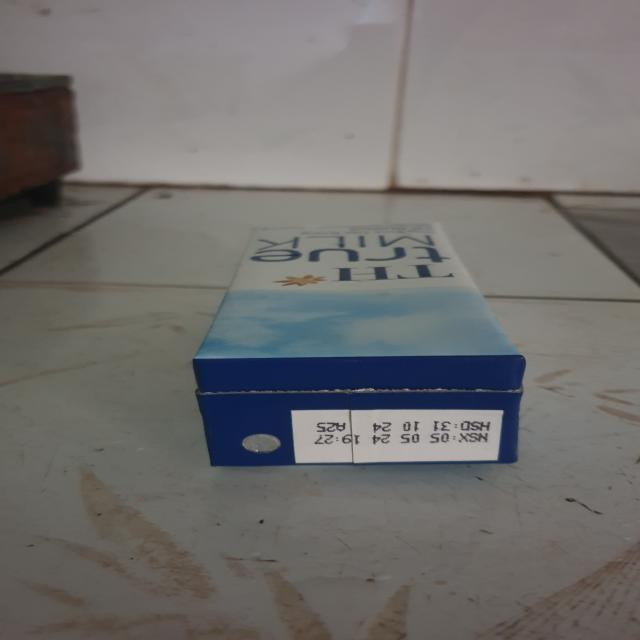TH: (182, 220, 533, 475)
